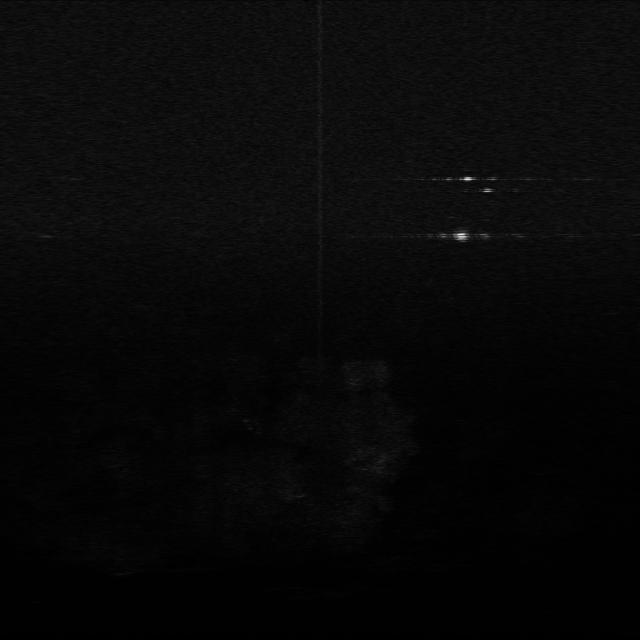rov: (448, 228, 473, 244)
